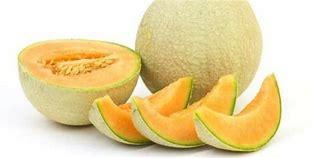Melon Ripe: (131, 0, 264, 99), (17, 39, 141, 128), (131, 75, 238, 149), (194, 73, 282, 151)
